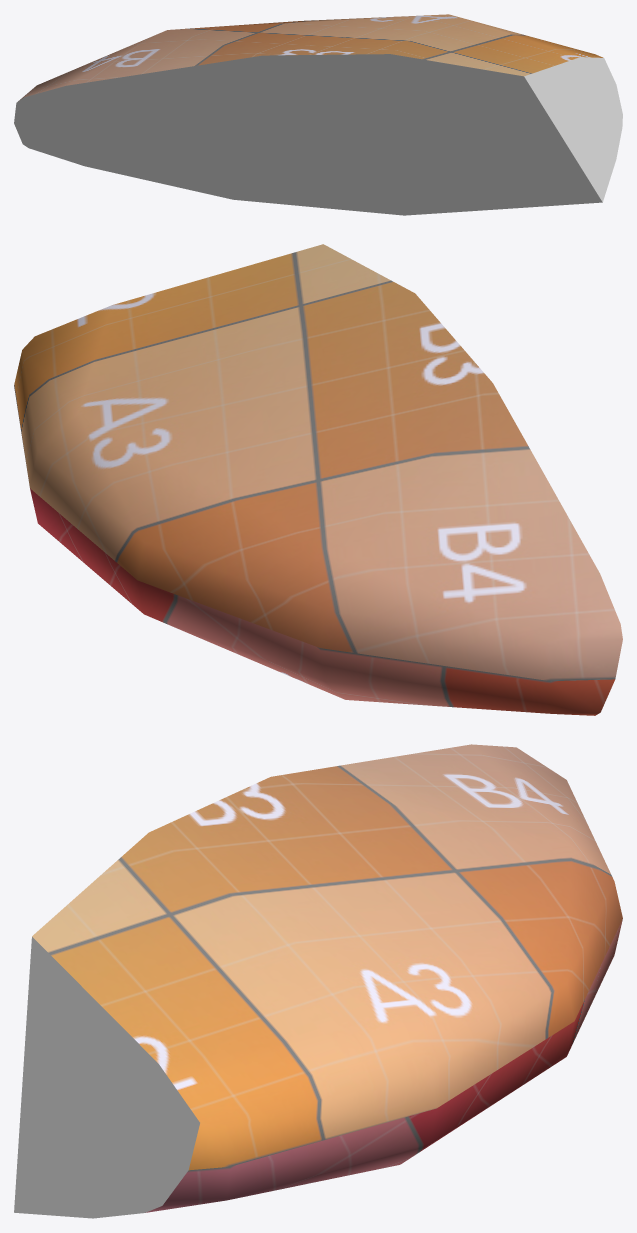
Rendered from MediumUrnLid_SHAT_cell_002.fbx.
3 views of the same model, one above another, from view 1: azimuth 30°, elevation 25°; view 2: azimuth 150°, elevation 25°; view 3: azimuth 270°, elevation 25° (orthographic). The views are drawn at different scales.
Visible parts, largest first — view 1: MediumUrnLid_SHAT_cell_002; view 2: MediumUrnLid_SHAT_cell_002; view 3: MediumUrnLid_SHAT_cell_002.
Boxes of the visible parts, x1,y1,x2,y2 form: MediumUrnLid_SHAT_cell_002: (14,14,622,215); MediumUrnLid_SHAT_cell_002: (14,244,622,715); MediumUrnLid_SHAT_cell_002: (14,744,622,1218).
Bounding box in the file's own units: 0.4524 × 0.1608 × 0.3072.
2 materials, 1 textured.
